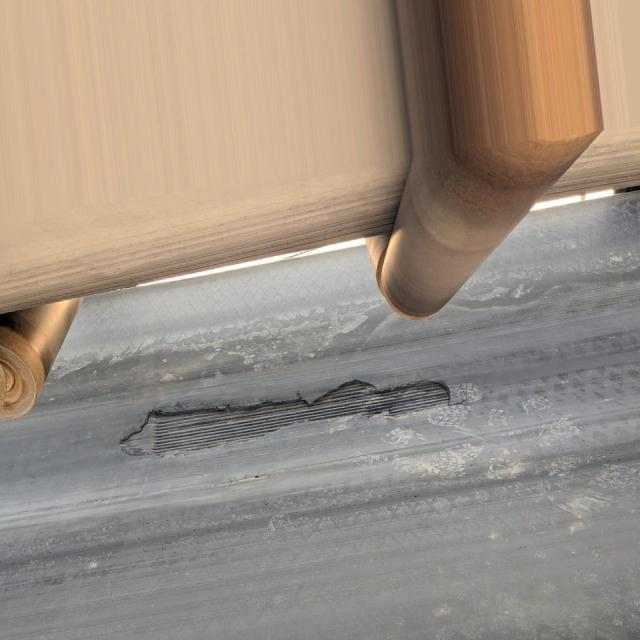Roller: (353, 0, 609, 329), (0, 296, 86, 427)
Tear: (116, 370, 465, 477)
